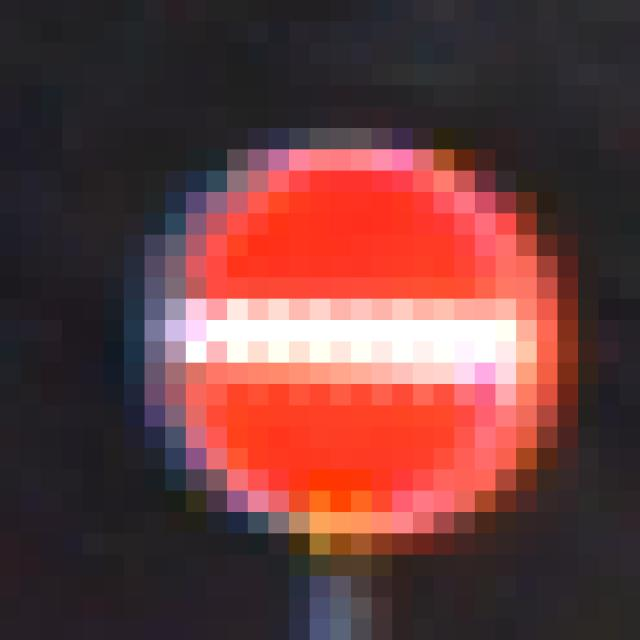No Entry: (125, 129, 538, 534)
